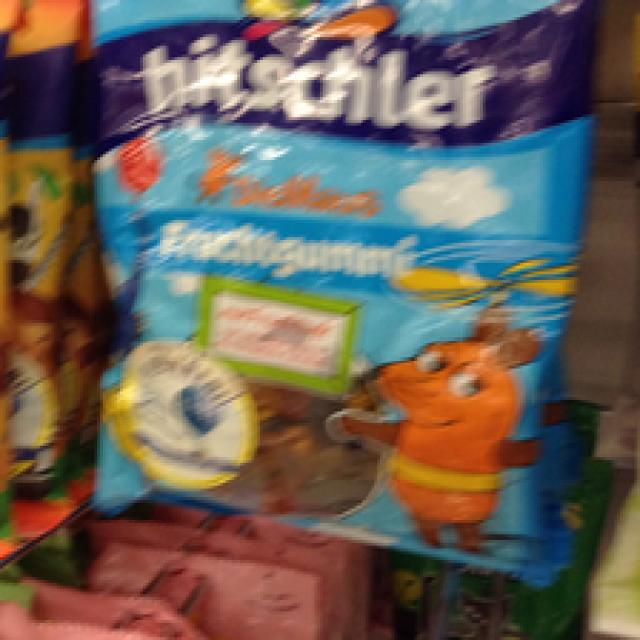groceries: (88, 0, 585, 574)
